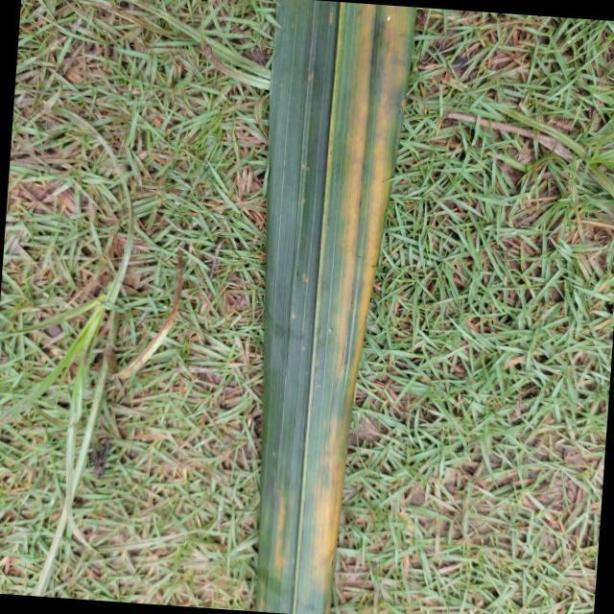Megnesium: (259, 0, 416, 614)
